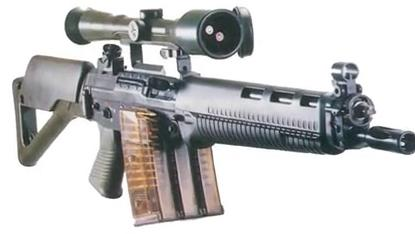gun: (1, 1, 415, 234)
